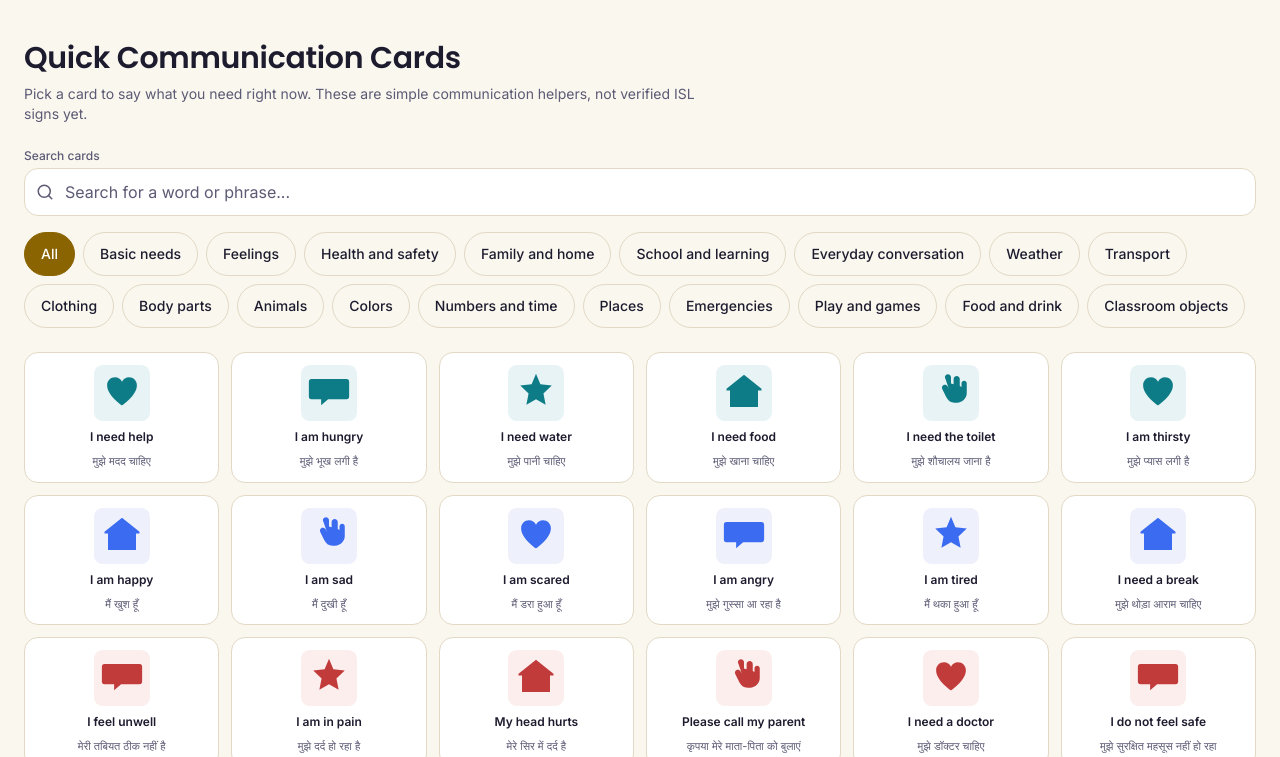
CardsClient › adds a card to the message and allows removing it
Step 1. Click the text "I need help" → (122, 437), box [90,429,153,445]
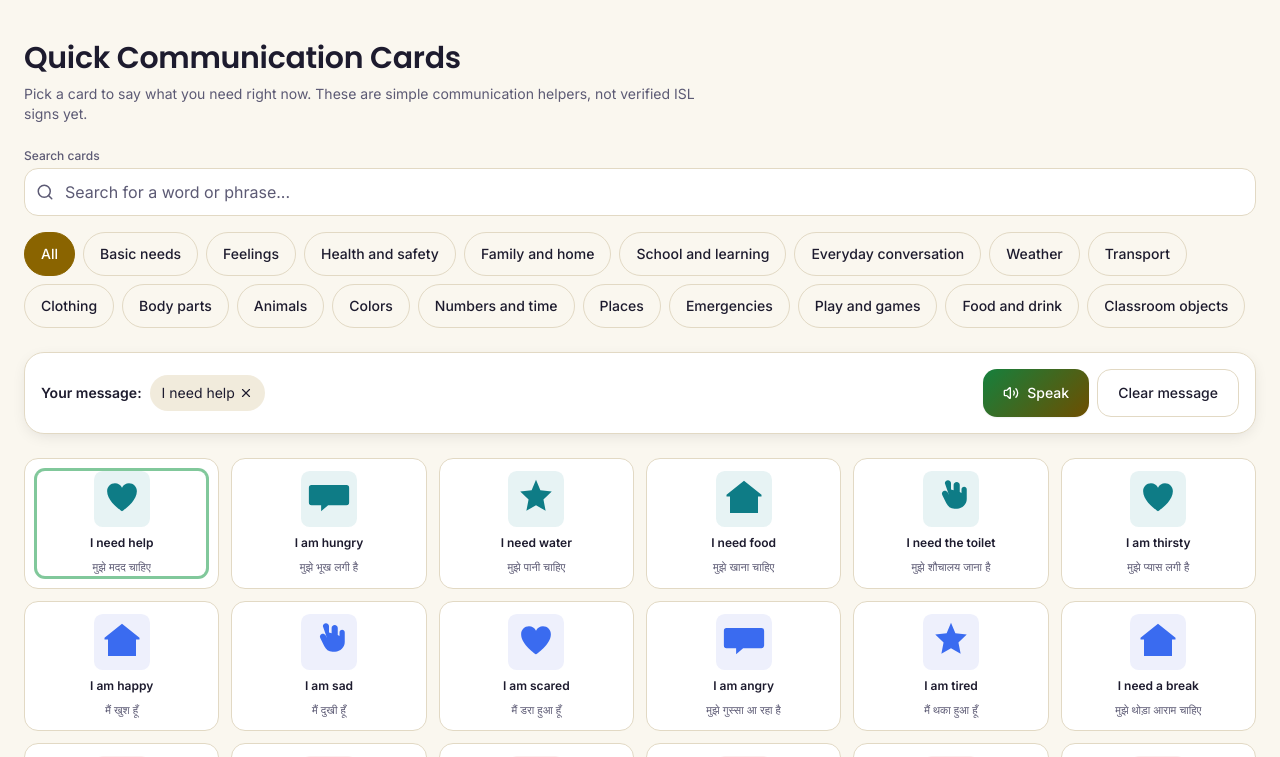
Check: the text "Your message:" is shown, box [41,383,142,403]
Step 2. Click the button with aria-label "Remove I need help" → (207, 393), box [150,375,265,411]
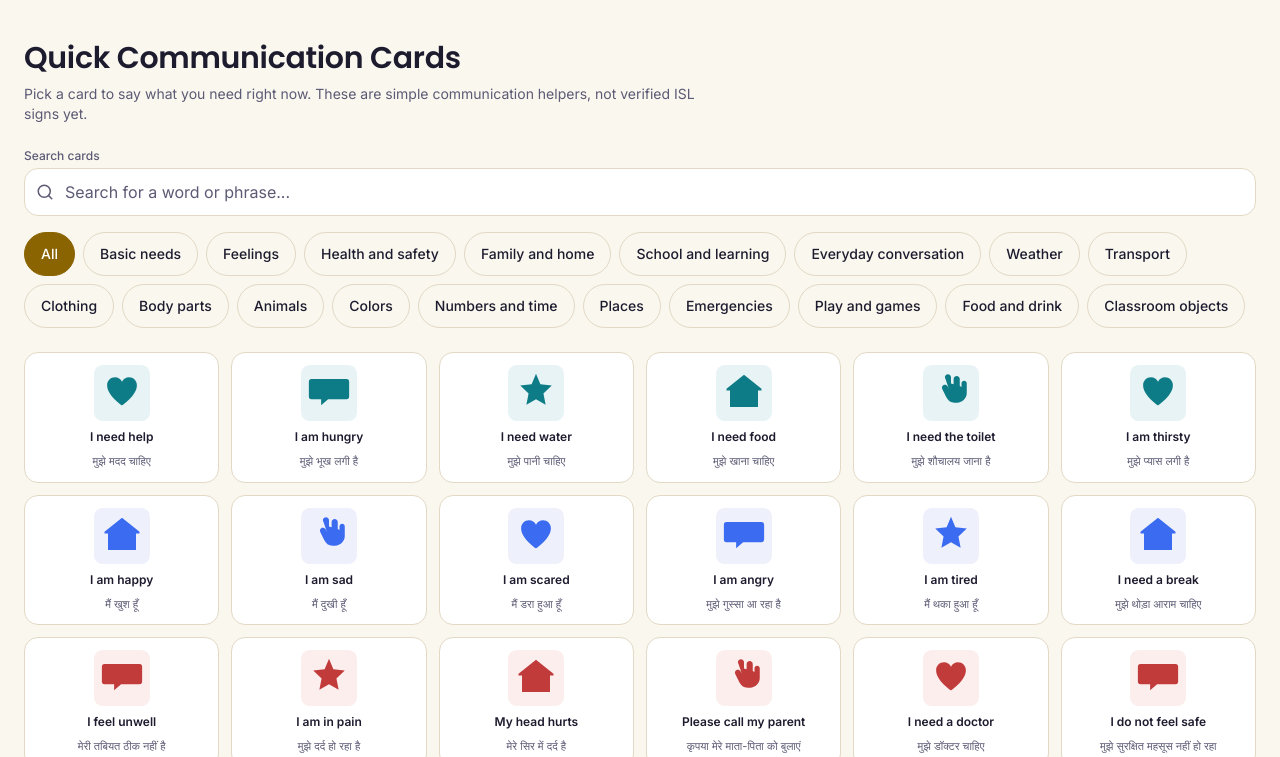
Check: the text "Your message:" is gone
